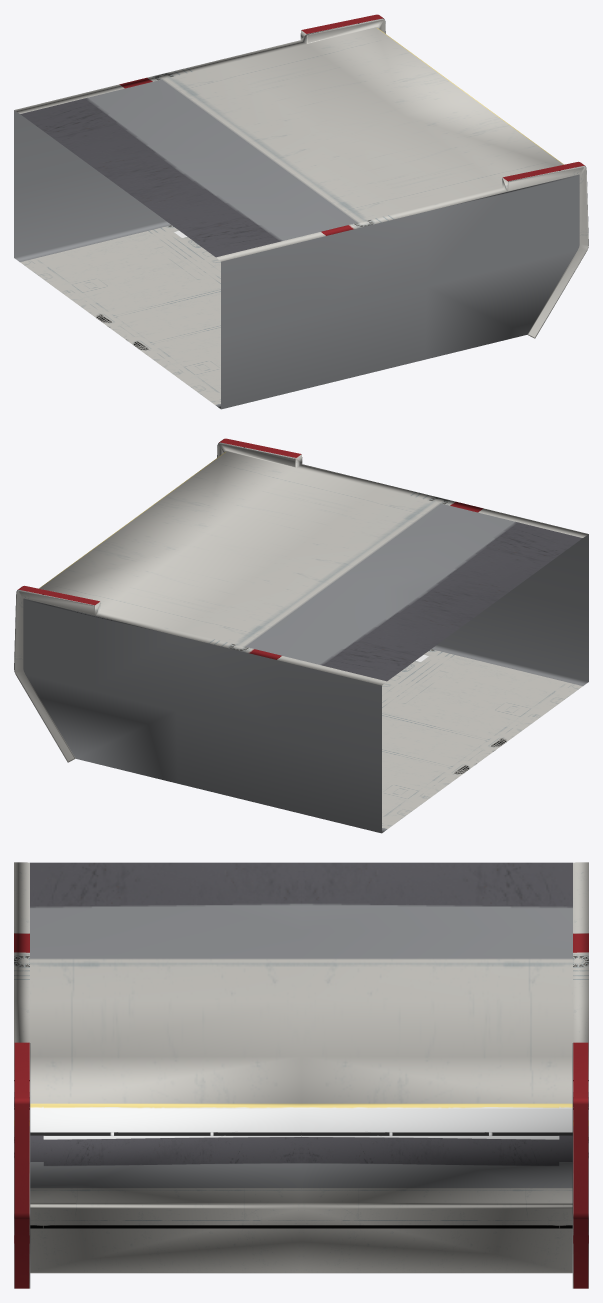
File: G_Env_Arch_WallProp_01_BoxA.fbx
The picture shows the model from 3 angles, top to bottom: view 1: azimuth 30°, elevation 25°; view 2: azimuth 150°, elevation 25°; view 3: azimuth 270°, elevation 25°; orthographic projection. The views are drawn at different scales.
Parts seen in each view (by area): view 1: G_Env_Arch_WallProp_01_BoxA; view 2: G_Env_Arch_WallProp_01_BoxA; view 3: G_Env_Arch_WallProp_01_BoxA.
Boxes of the visible parts, <box> form: G_Env_Arch_WallProp_01_BoxA: <box>14,14,588,409</box>; G_Env_Arch_WallProp_01_BoxA: <box>14,438,588,833</box>; G_Env_Arch_WallProp_01_BoxA: <box>14,862,588,1288</box>.
Bounding box in the file's own units: 513 × 219 × 500.
